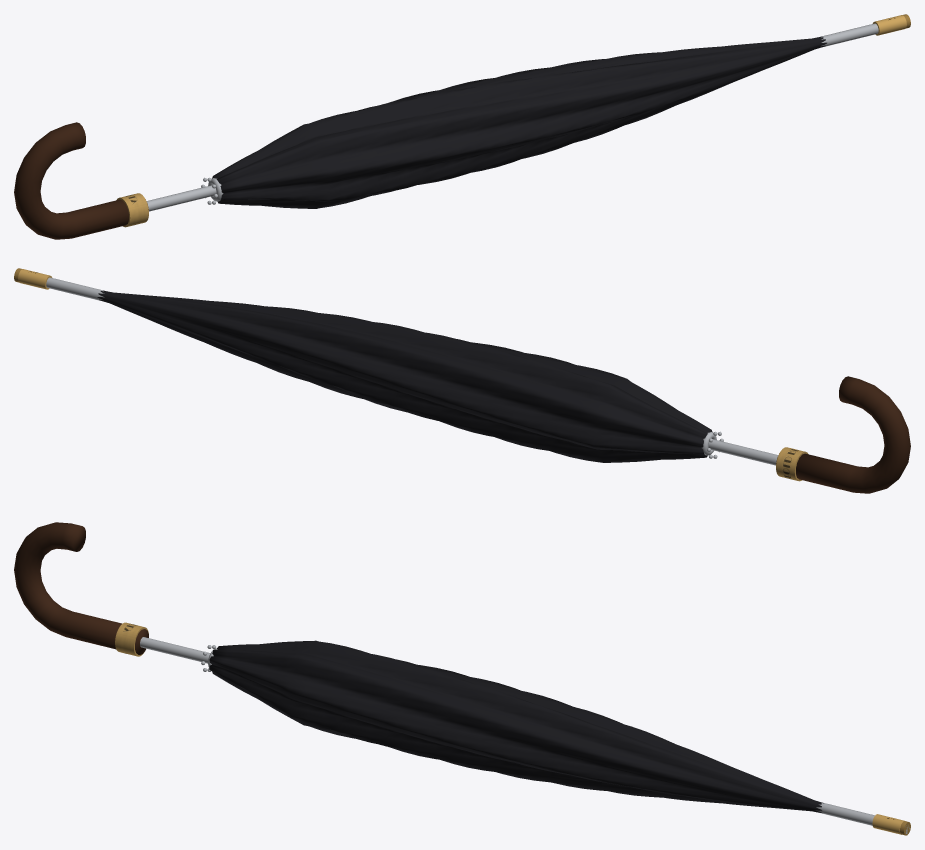
File: umbrella_black.fbx
3 renders of one model, top to bottom at view 1: azimuth 30°, elevation 25°; view 2: azimuth 150°, elevation 25°; view 3: azimuth 330°, elevation 25°, orthographic.
Visible parts, largest first — view 1: umbrella_black, CrookHandle, Collar; view 2: umbrella_black, CrookHandle, Collar; view 3: umbrella_black, CrookHandle, Collar.
Part boxes in pixels (x1=…): umbrella_black: x1=146, y1=14, x2=910, y2=211; CrookHandle: x1=14, y1=122, x2=148, y2=239; Collar: x1=116, y1=193, x2=148, y2=227; umbrella_black: x1=14, y1=268, x2=778, y2=465; CrookHandle: x1=776, y1=376, x2=910, y2=493; Collar: x1=776, y1=447, x2=808, y2=481; umbrella_black: x1=140, y1=637, x2=910, y2=835; CrookHandle: x1=14, y1=522, x2=148, y2=654; Collar: x1=115, y1=622, x2=148, y2=656.
Size of the model in its own units: 0.851 by 0.1299 by 0.0777.
